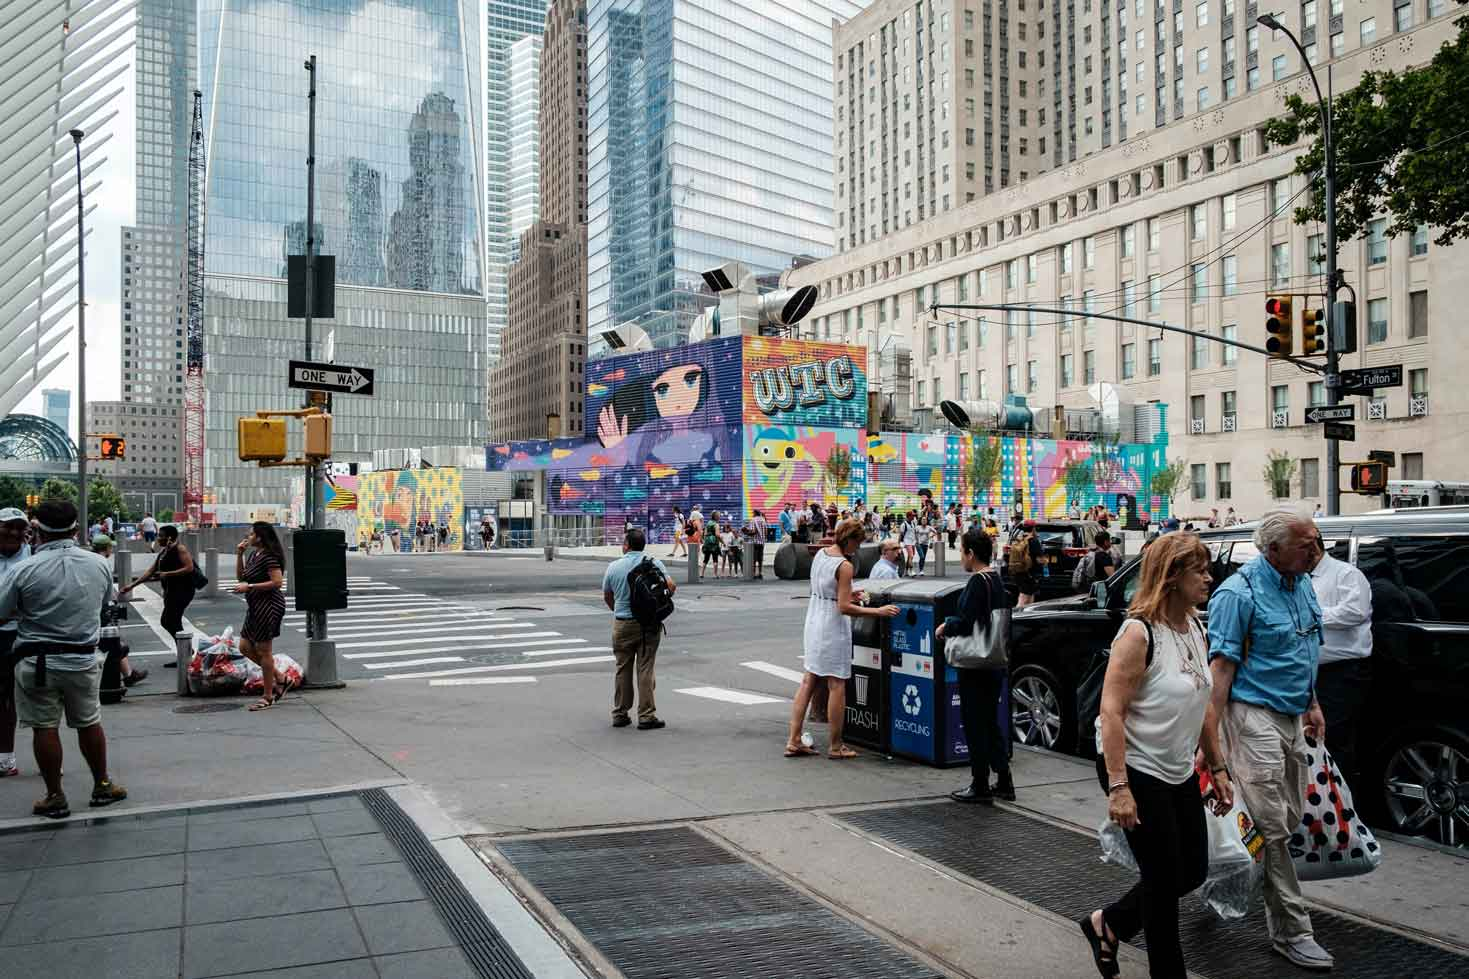removal: (357, 536, 574, 590), (907, 317, 957, 358)
